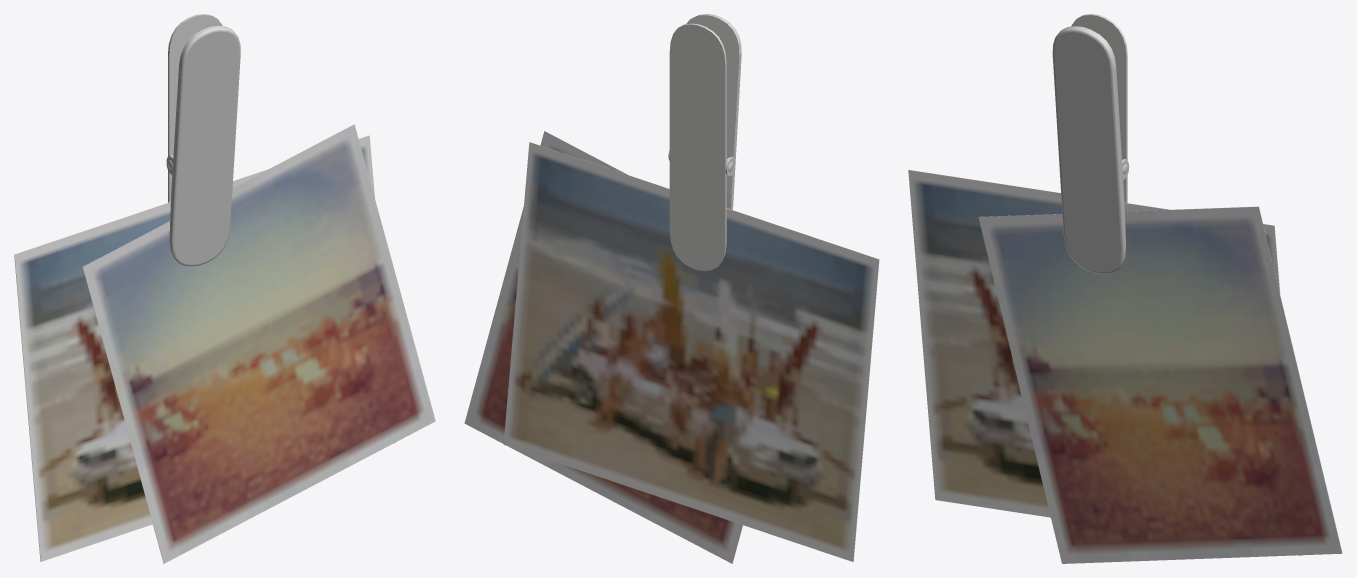
File: Deco02.glb
3 views of the same model, side by side, from view 1: azimuth 30°, elevation 25°; view 2: azimuth 150°, elevation 25°; view 3: azimuth 330°, elevation 25° (orthographic). The views are drawn at different scales.
Parts seen in each view (by area): view 1: Plane005_StaticMeshComponent0, Plane004_StaticMeshComponent0, Box193_StaticMeshComponent0; view 2: Plane004_StaticMeshComponent0, Box193_StaticMeshComponent0, Plane005_StaticMeshComponent0; view 3: Plane005_StaticMeshComponent0, Plane004_StaticMeshComponent0, Box193_StaticMeshComponent0.
Boxes of the visible parts, box(x1,y1,x2,y2) form: Plane005_StaticMeshComponent0: box(83, 124, 435, 563); Plane004_StaticMeshComponent0: box(14, 135, 395, 561); Box193_StaticMeshComponent0: box(166, 14, 240, 266); Plane004_StaticMeshComponent0: box(503, 142, 879, 561); Box193_StaticMeshComponent0: box(668, 14, 741, 270); Plane005_StaticMeshComponent0: box(464, 131, 742, 563); Plane005_StaticMeshComponent0: box(978, 206, 1342, 563); Plane004_StaticMeshComponent0: box(908, 169, 1301, 555); Box193_StaticMeshComponent0: box(1052, 14, 1129, 274).
Bounding box in the file's own units: 0.1417 × 0.1735 × 0.0104.
Materials: 3 (2 with a texture image).
